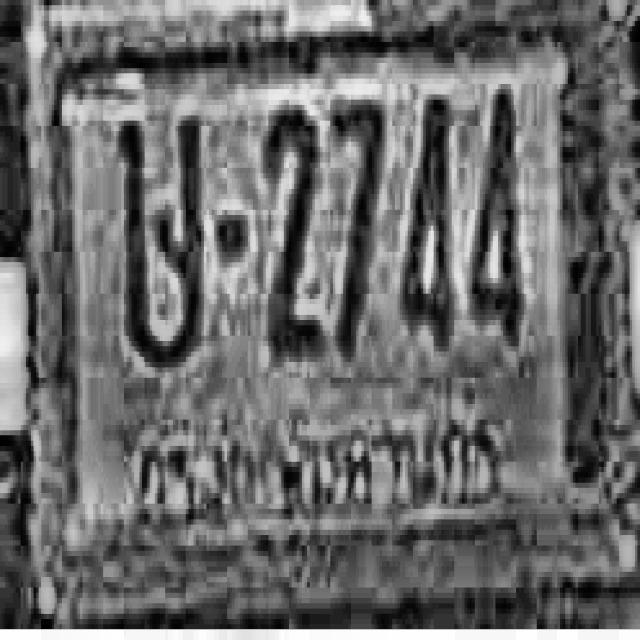license-plate: (30, 10, 612, 600)
